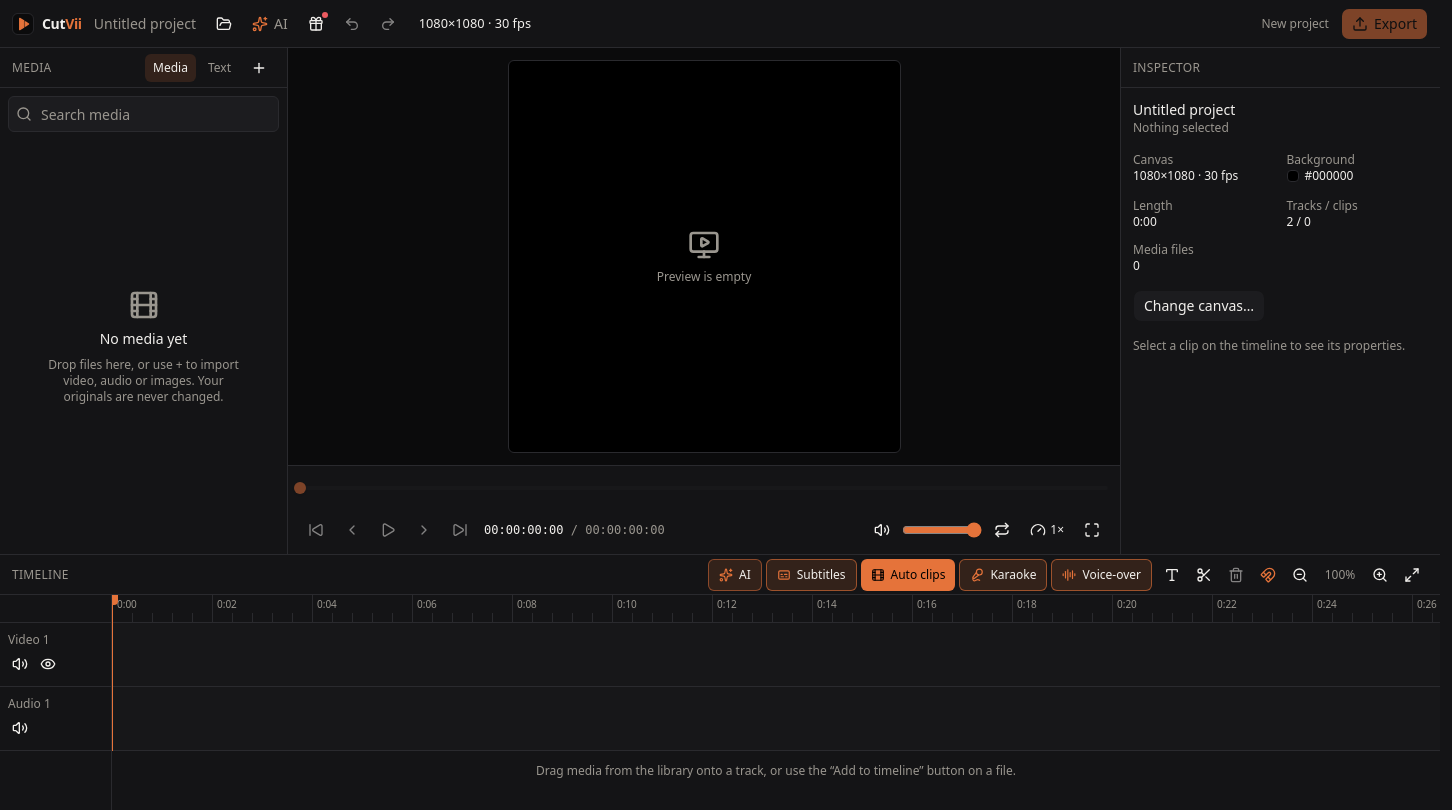
Test case: Original canvas applied by the first media › a normal (non-Original) project is never changed by imports
Step 1. Click the button named "Import media" → (259, 68), box [243,52,275,84]
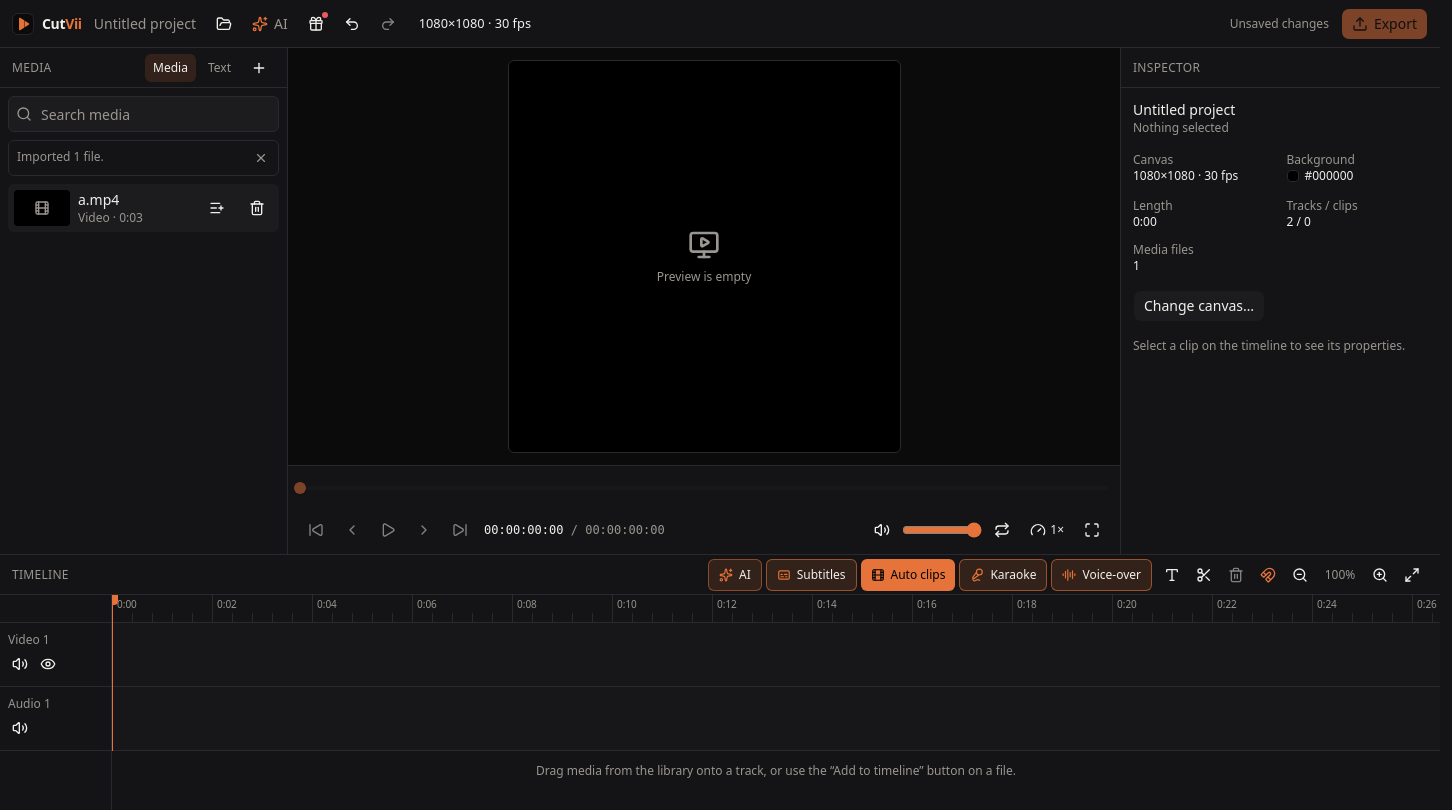
Check: the text "a.mp4" is shown, box [78,190,119,209]
